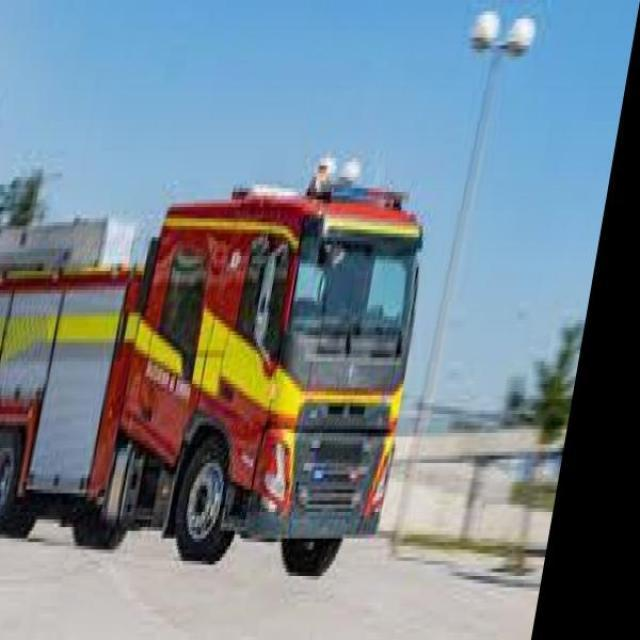emergency: (0, 152, 424, 576)
